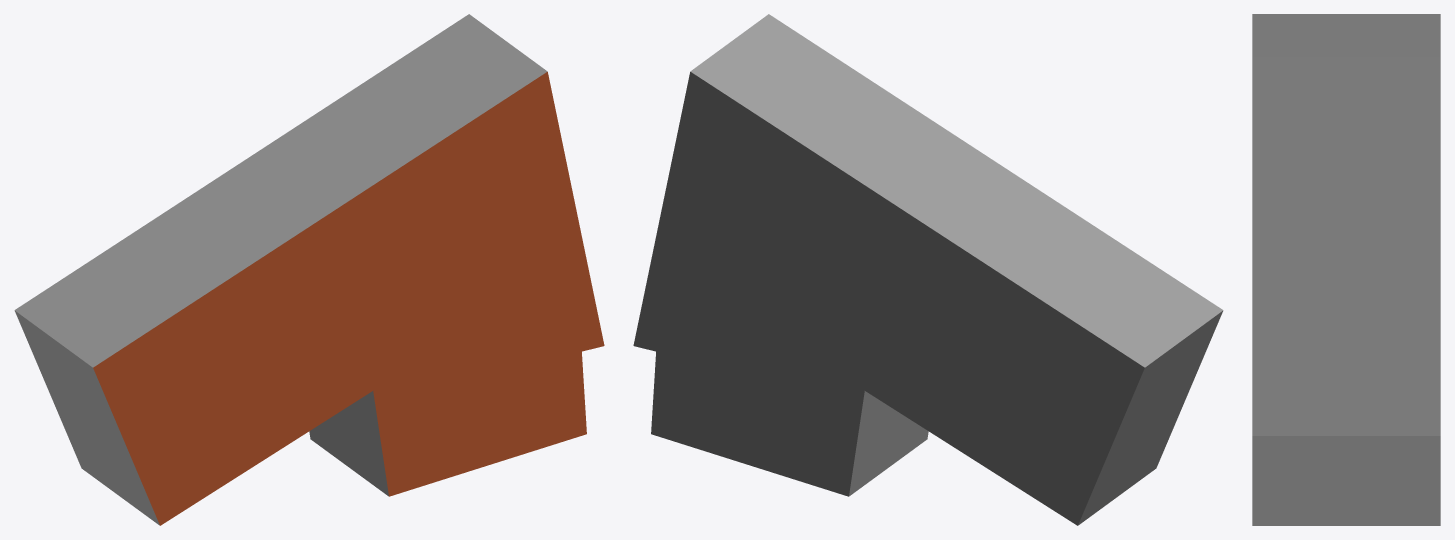
File: construction_6520_assumed_A_Casa_h6m.obj
3 renders of one model, left to right at view 1: azimuth 30°, elevation 25°; view 2: azimuth 150°, elevation 25°; view 3: azimuth 270°, elevation 25°, orthographic. The views are drawn at different scales.
Parts seen in each view (by area): view 1: construction_6520_assumed_A_Casa; view 2: construction_6520_assumed_A_Casa; view 3: construction_6520_assumed_A_Casa.
Part boxes in pixels (x1=…): construction_6520_assumed_A_Casa: x1=14, y1=14, x2=604, y2=525; construction_6520_assumed_A_Casa: x1=633, y1=14, x2=1223, y2=525; construction_6520_assumed_A_Casa: x1=1252, y1=14, x2=1440, y2=525.
Bounding box in the file's own units: 22.55 × 16.28 × 6.
